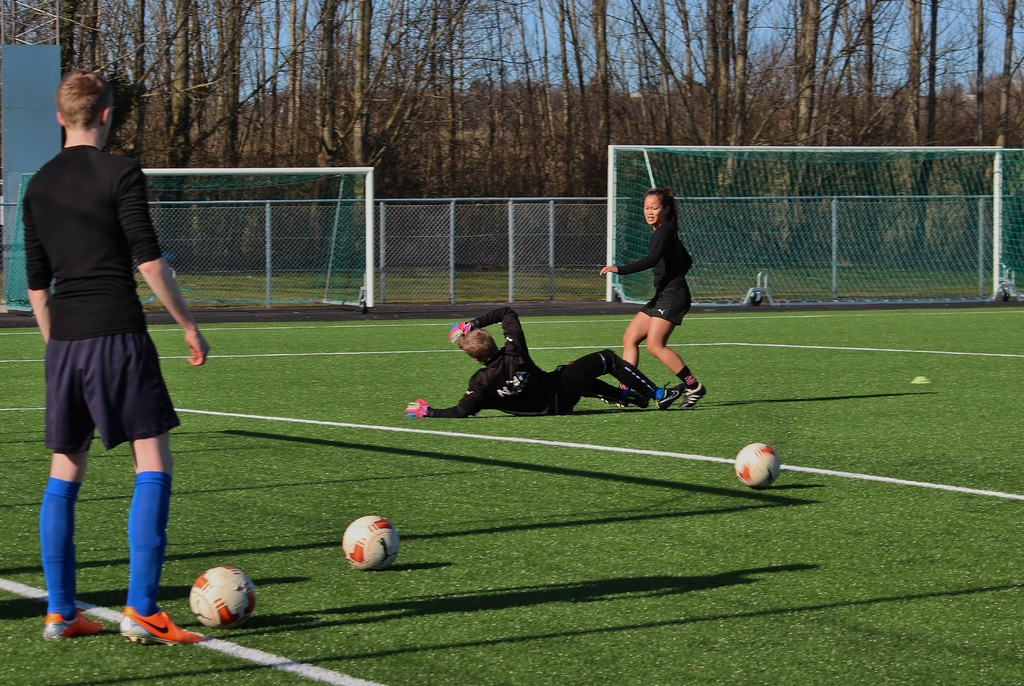Person: (22, 70, 208, 644), (404, 306, 688, 418), (599, 191, 709, 408)
